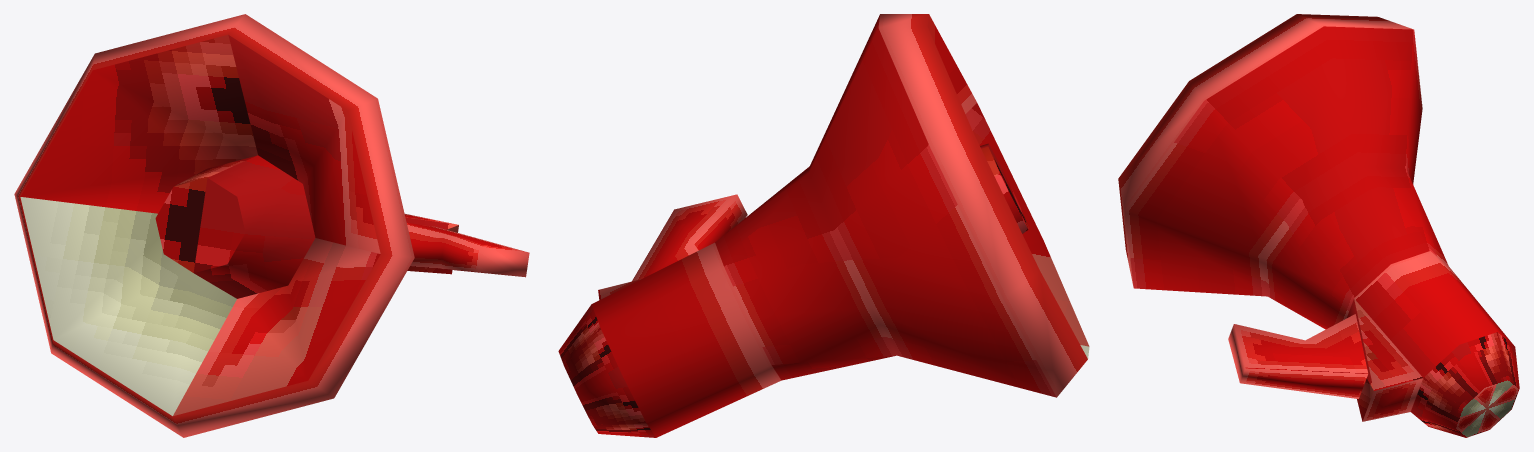
File: fg_megaphone.dae
The picture shows the model from 3 angles, left to right: view 1: azimuth 30°, elevation 25°; view 2: azimuth 150°, elevation 25°; view 3: azimuth 270°, elevation 25°; orthographic projection. The views are drawn at different scales.
Parts seen in each view (by area): view 1: fg_megaphone; view 2: fg_megaphone; view 3: fg_megaphone.
Boxes of the visible parts, <box> form: fg_megaphone: <box>14,14,529,437</box>; fg_megaphone: <box>558,14,1089,437</box>; fg_megaphone: <box>1118,14,1519,437</box>.
Size of the model in its own units: 19.78 by 15.89 by 17.56.
Materials: 1 (1 with a texture image).
